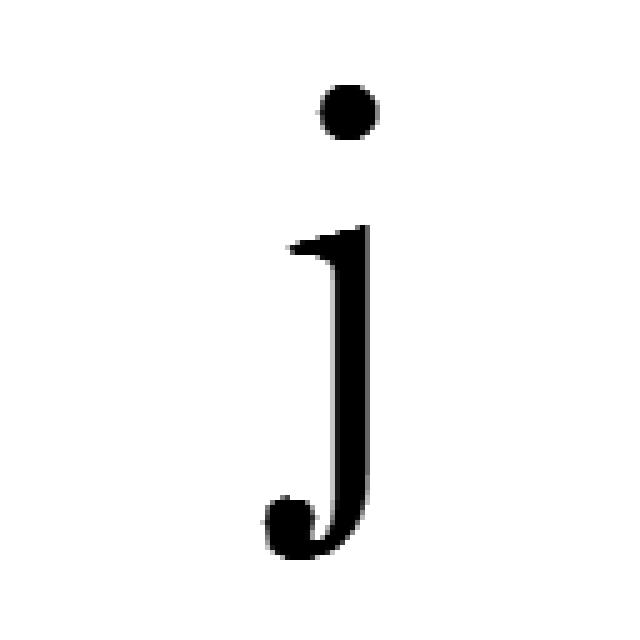J: (255, 71, 384, 565)
